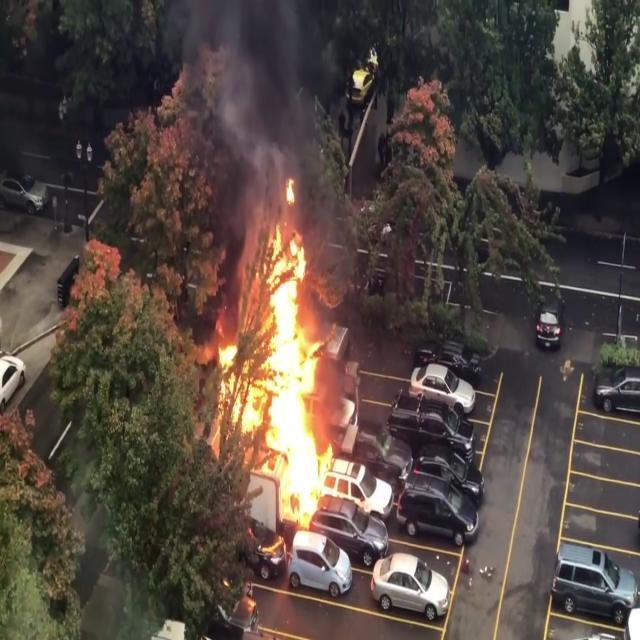Fire: (212, 191, 354, 538)
Smoke: (188, 0, 352, 211)
